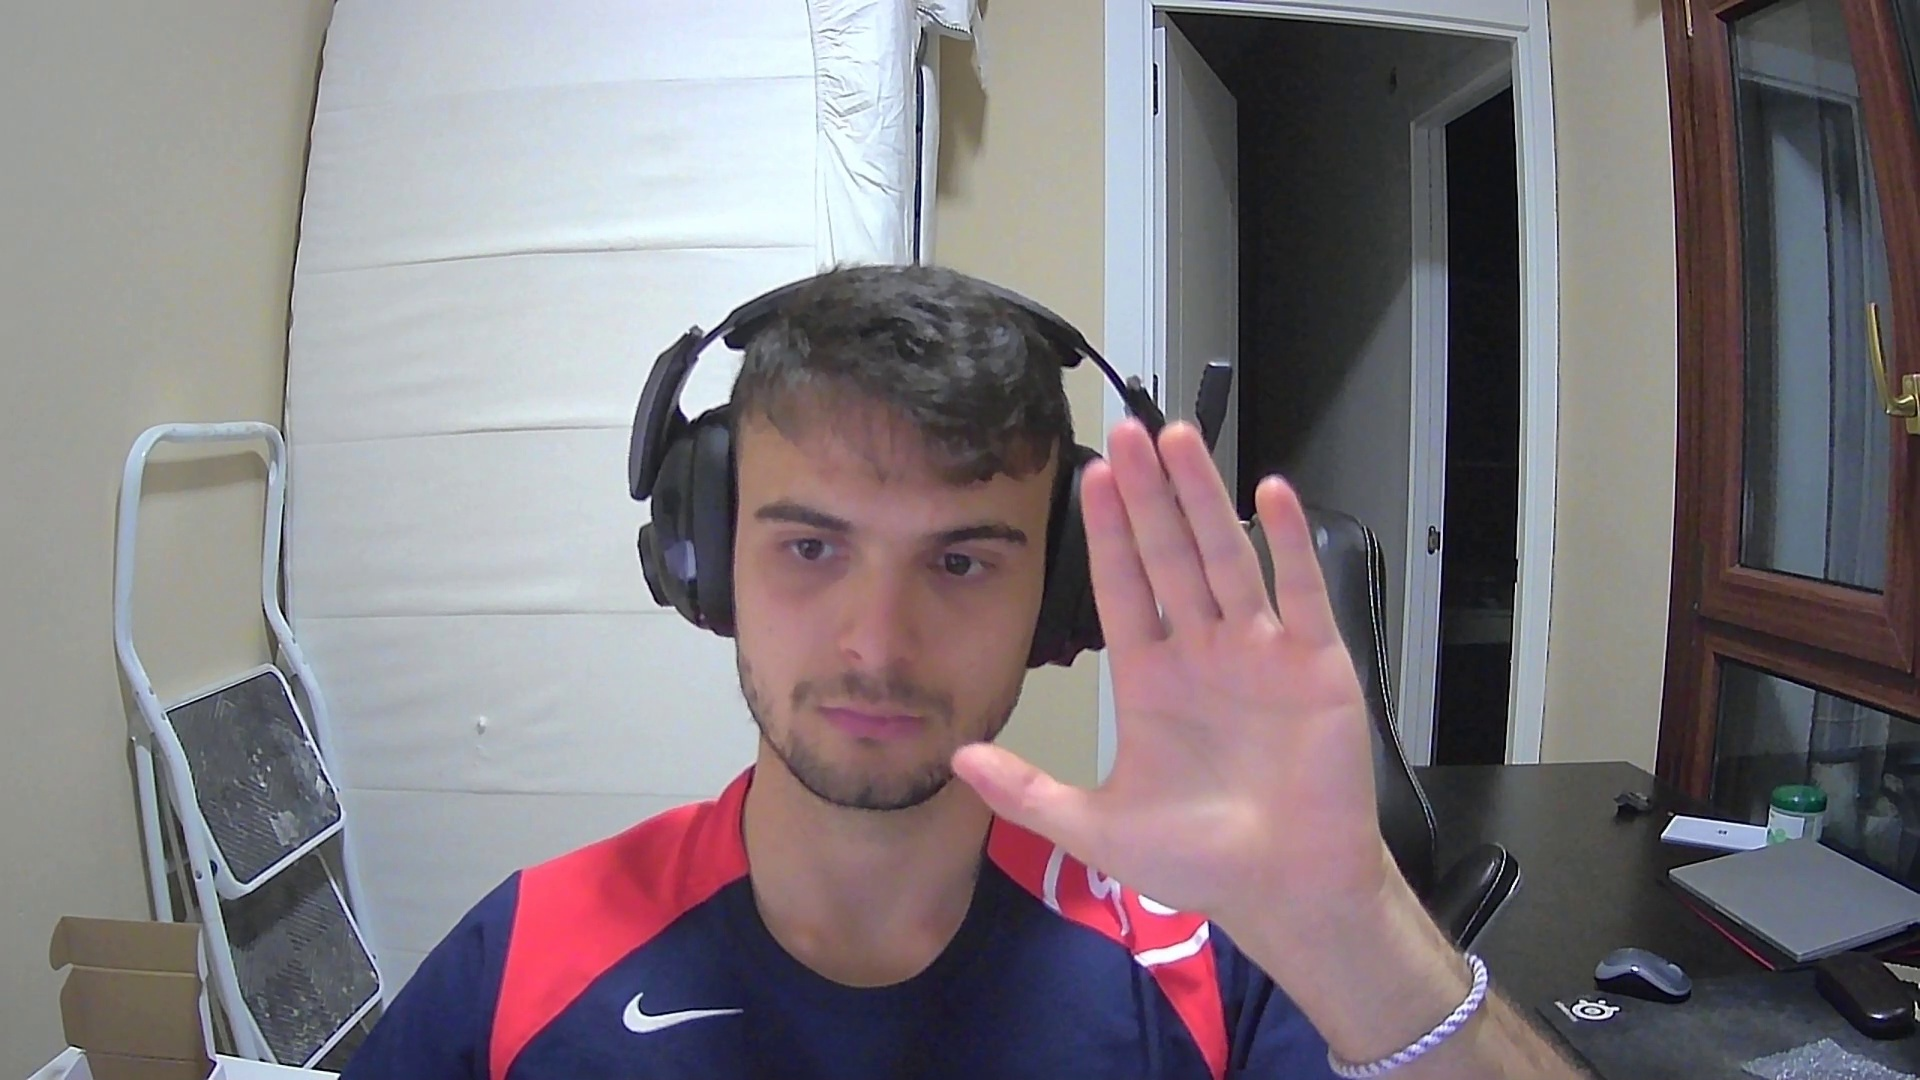Palm: (942, 411, 1386, 934)
